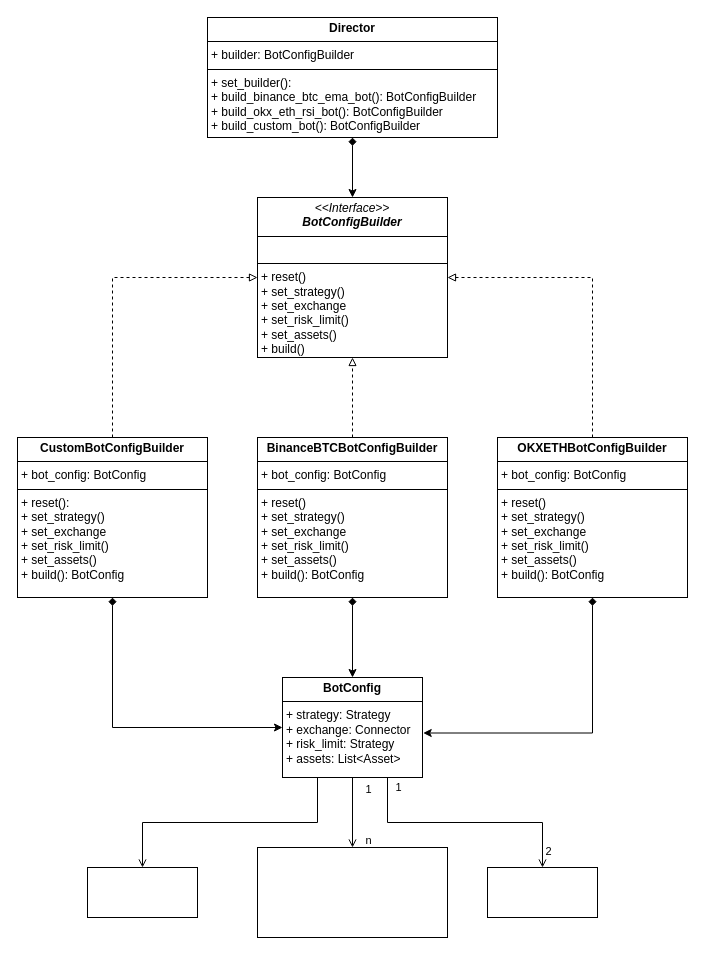
Image size: 705x955. Some labels were removed from this diagram. Each missing label, with the centre of its shape:
Asset + name: str + price: float + set_market_price(price: float): point (352, 892)
Connector: point (142, 892)
Strategy: point (542, 892)
